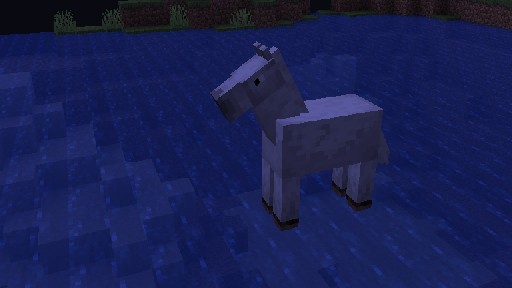horse: (209, 40, 390, 231)
